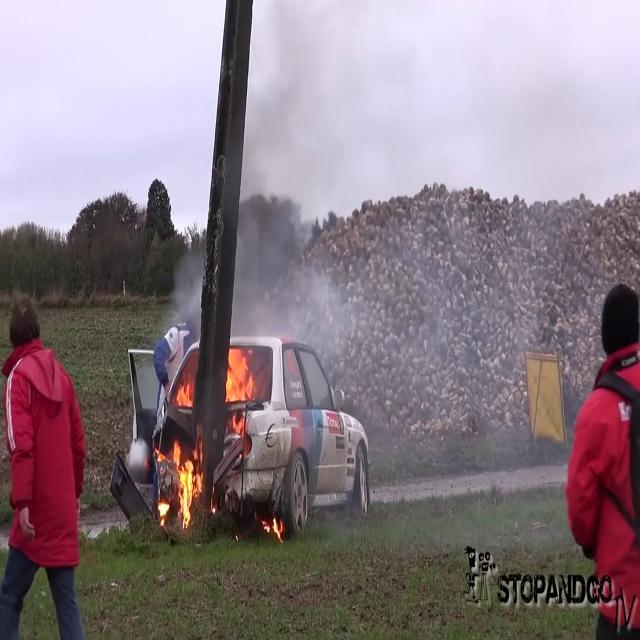Fire: (166, 432, 205, 530), (223, 341, 257, 423), (263, 508, 283, 543)
Smoke: (184, 2, 340, 350)
